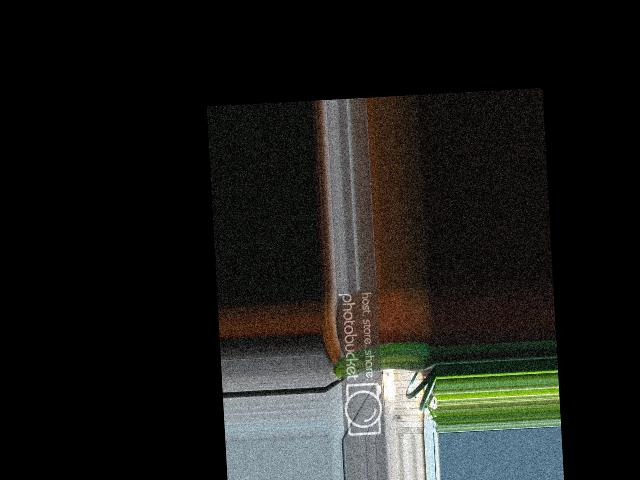cucumber: (327, 340, 434, 378)
